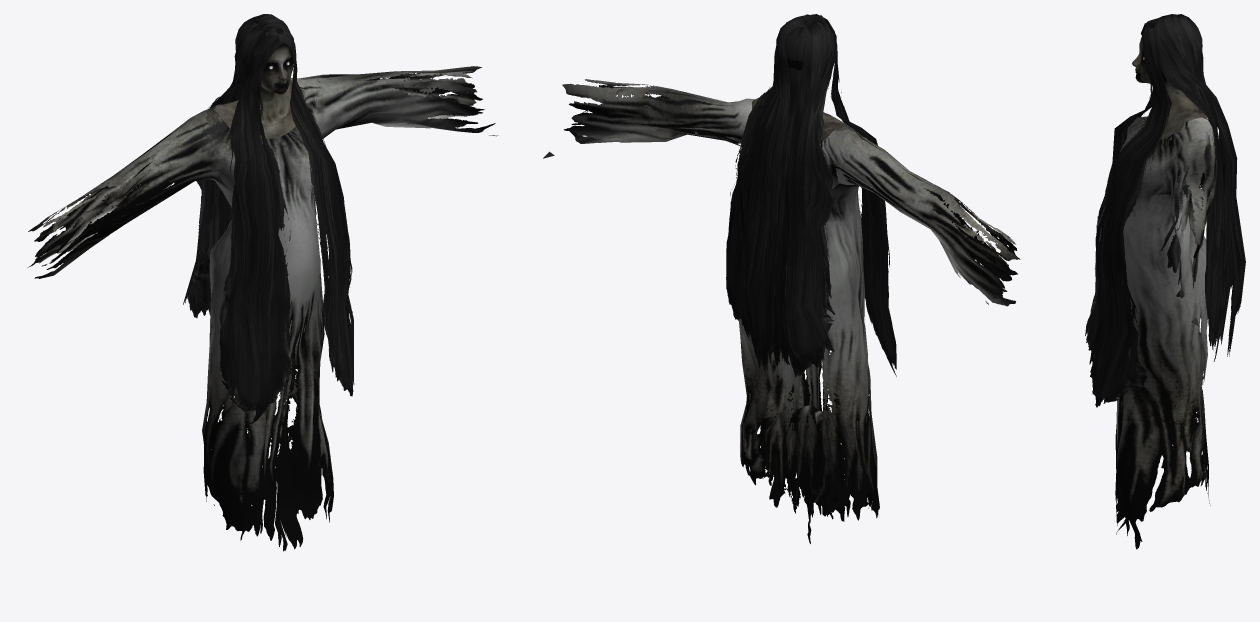
File: Kuntilanak_B_high.fbx
3 renders of one model, left to right at view 1: azimuth 30°, elevation 25°; view 2: azimuth 150°, elevation 25°; view 3: azimuth 270°, elevation 25°, orthographic. The views are drawn at different scales.
Parts seen in each view (by area): view 1: Kuntilanak_B_body_low.001, Kuntilanak_B_hair_high, Kuntilanak_B_face_high; view 2: Kuntilanak_B_body_low.001, Kuntilanak_B_hair_high, Kuntilanak_Under_high; view 3: Kuntilanak_B_body_low.001, Kuntilanak_B_hair_high, Kuntilanak_B_face_high.
Part boxes in pixels (box(x1,y1,x2,y2)): Kuntilanak_B_body_low.001: box(27, 66, 498, 551); Kuntilanak_B_hair_high: box(183, 14, 354, 423); Kuntilanak_B_face_high: box(214, 21, 295, 138); Kuntilanak_B_body_low.001: box(543, 79, 1020, 543); Kuntilanak_B_hair_high: box(726, 14, 896, 377); Kuntilanak_Under_high: box(742, 405, 879, 520); Kuntilanak_B_body_low.001: box(1098, 85, 1216, 549); Kuntilanak_B_hair_high: box(1085, 14, 1245, 407); Kuntilanak_B_face_high: box(1132, 37, 1202, 138).
Bounding box in the file's own units: 179 × 202 × 58.45.
